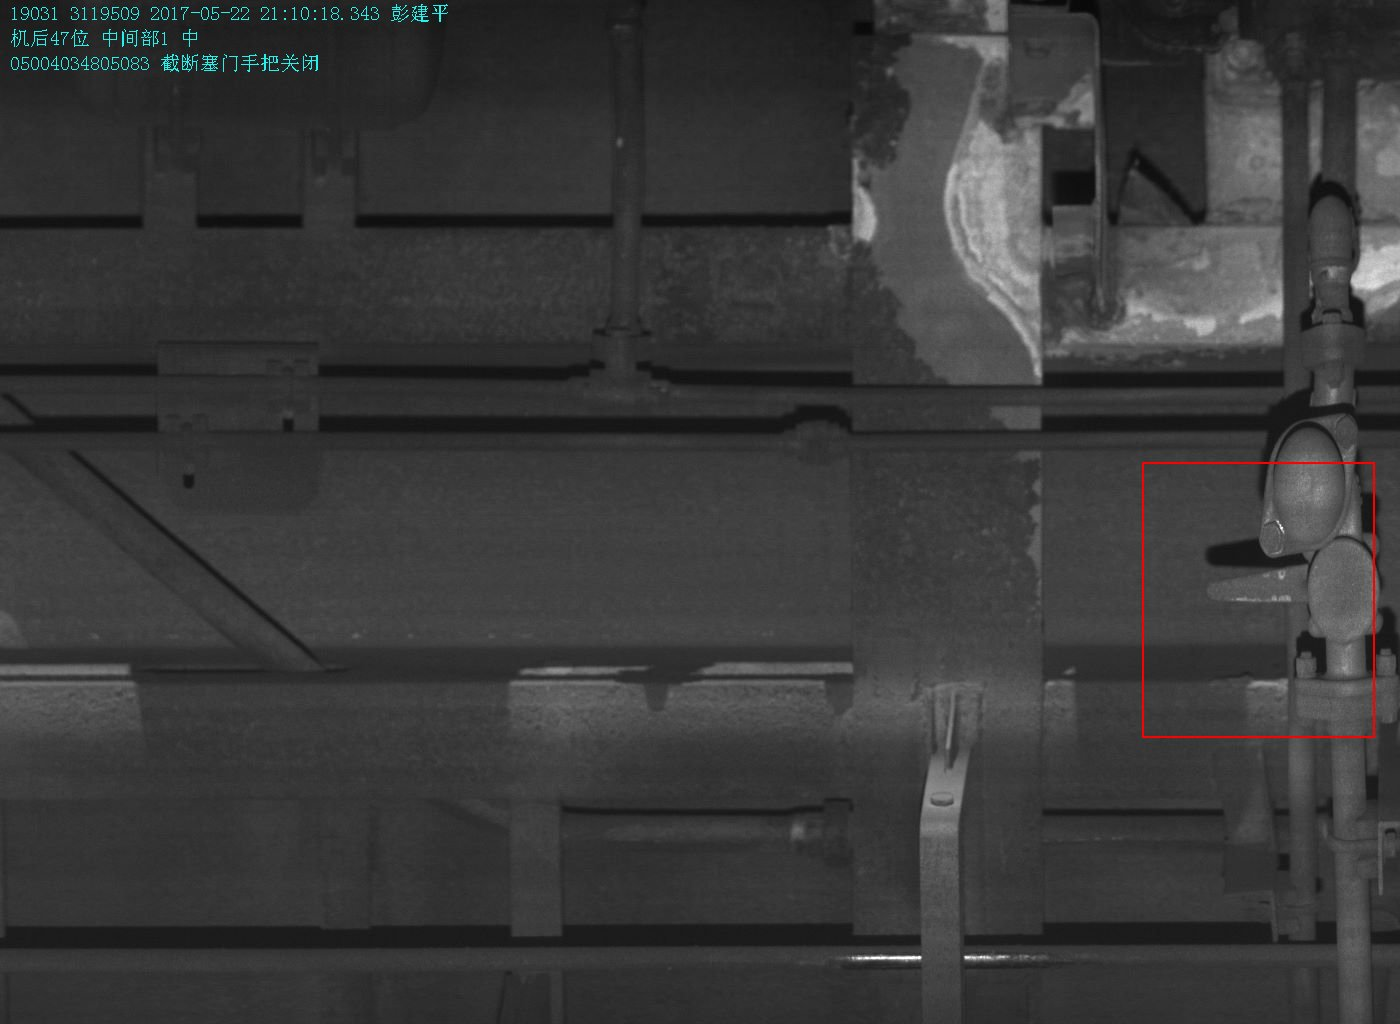truncated plug door handle: (1207, 534, 1383, 641)
